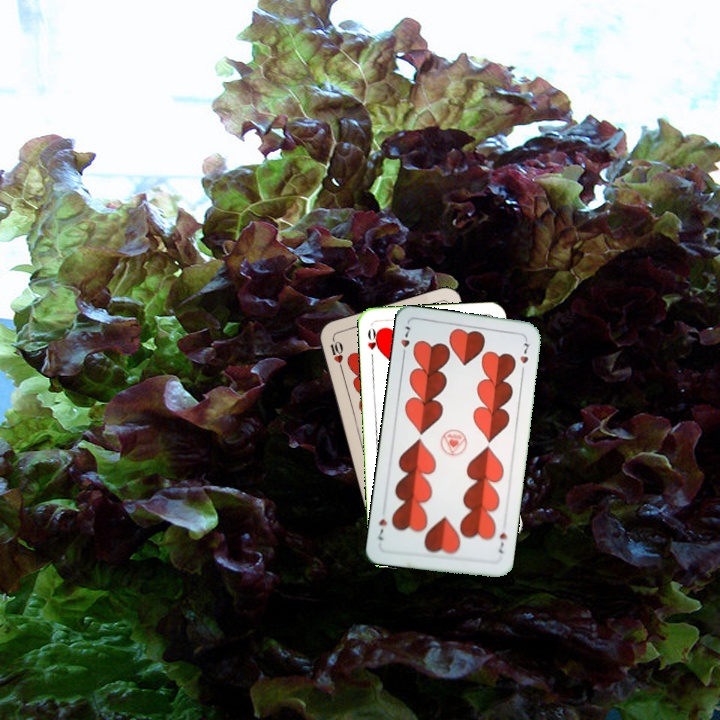H10: (326, 333, 346, 373)
H7: (397, 322, 413, 361), (495, 529, 509, 556)
HO: (363, 322, 382, 363)
